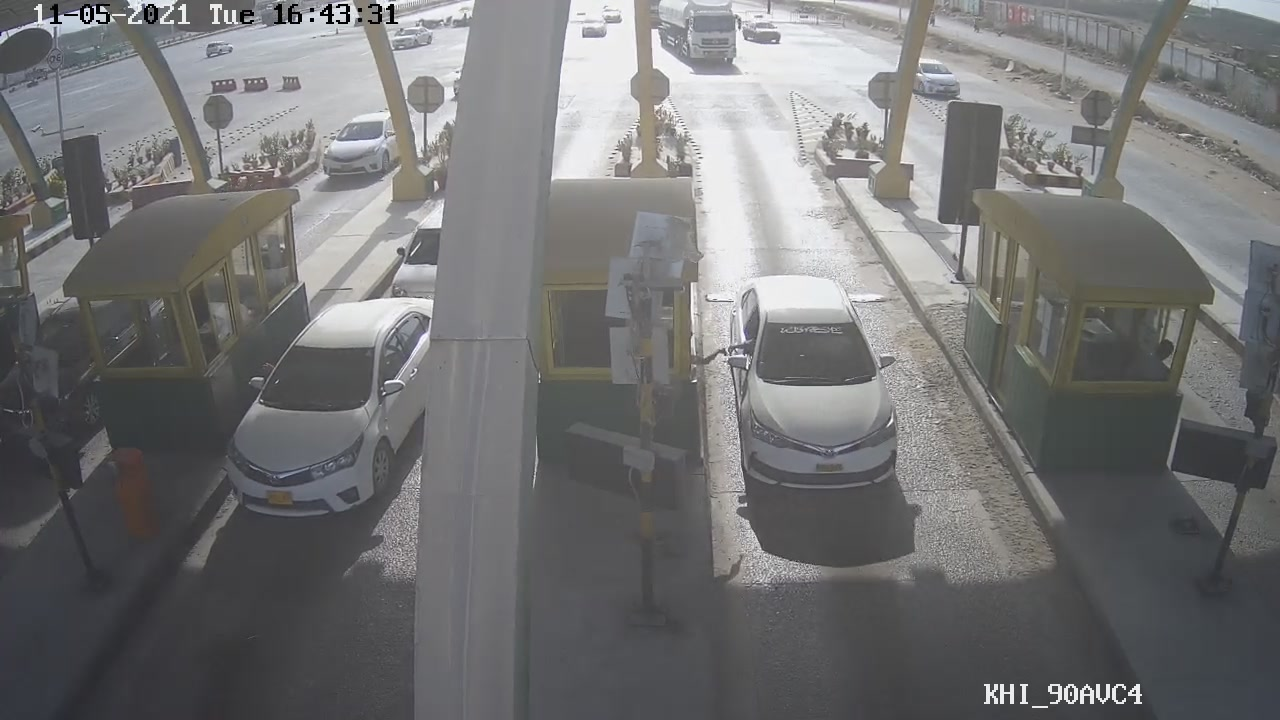F1: (725, 274, 904, 494)
